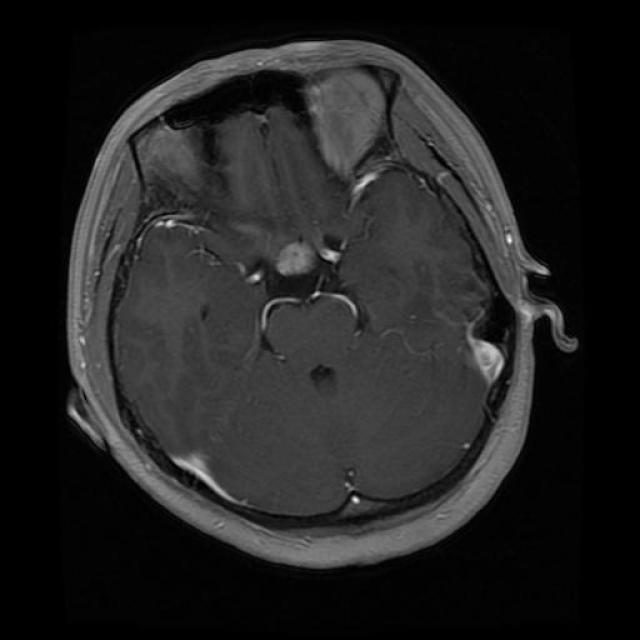pituitary: (247, 211, 342, 292)
